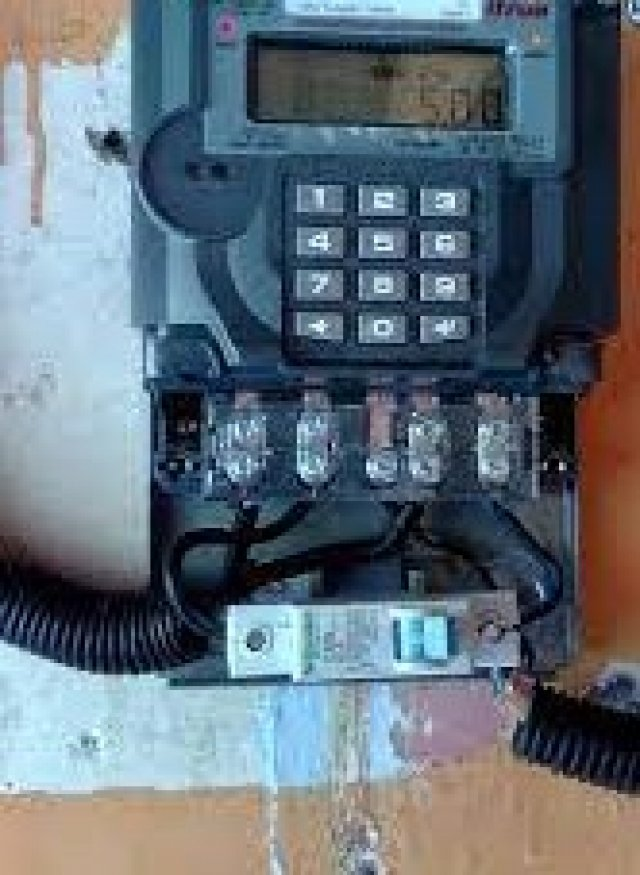box: (252, 40, 509, 130)
